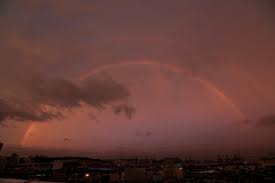sky: (1, 1, 271, 156)
